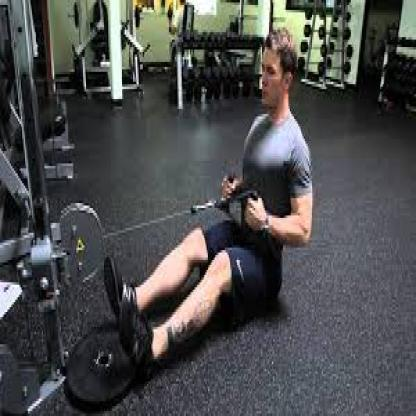Seated Cable Rows: (1, 0, 317, 416)
